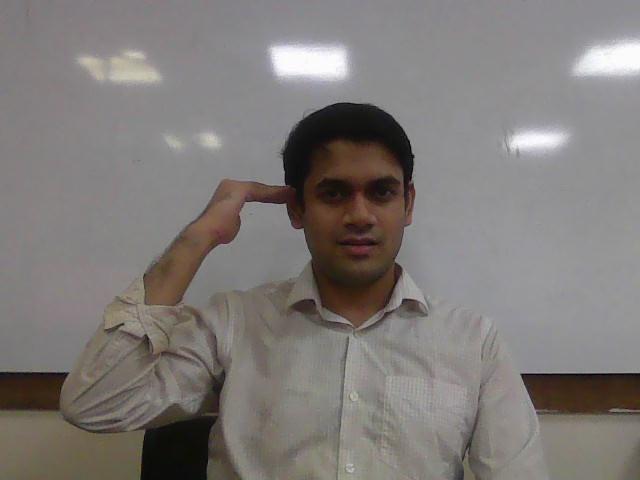Prottibondhi: (204, 178, 304, 248)
